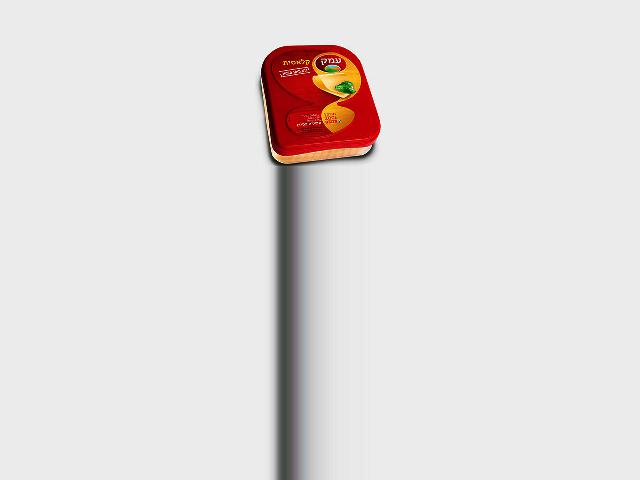cheese: (260, 44, 380, 164)
